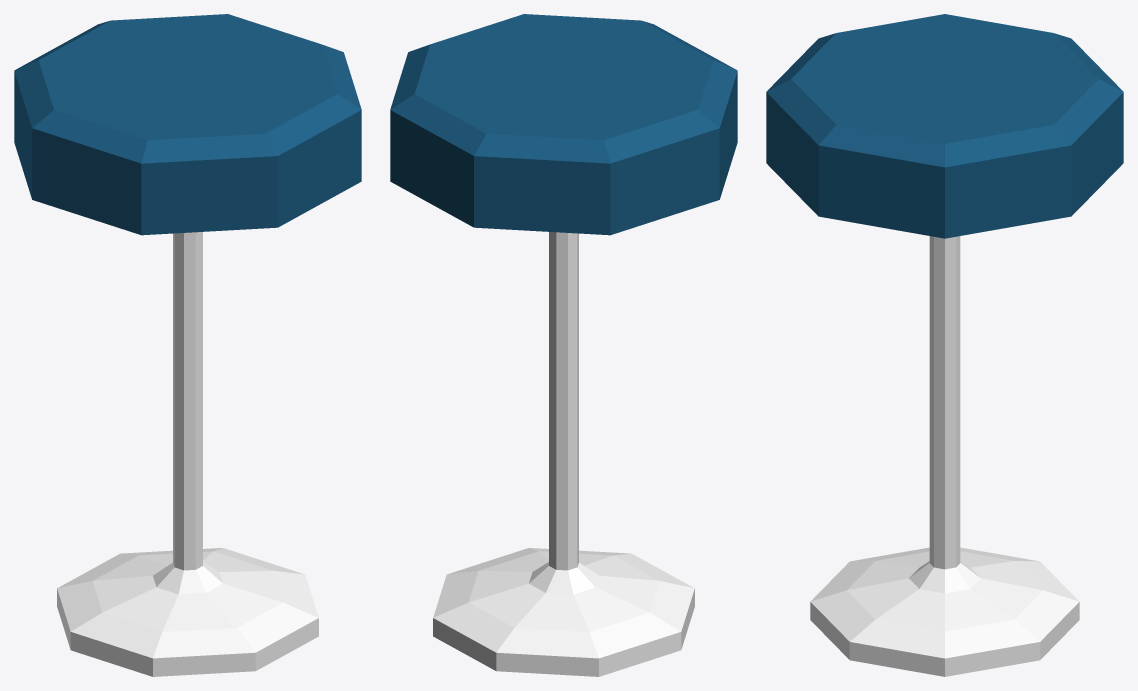
3 views of the same model, side by side, from view 1: azimuth 30°, elevation 25°; view 2: azimuth 150°, elevation 25°; view 3: azimuth 270°, elevation 25° (orthographic).
Visible parts, largest first — view 1: Cylinder.036; view 2: Cylinder.036; view 3: Cylinder.036.
Part boxes in pixels (<box>): Cylinder.036: <box>14,14,361,676</box>; Cylinder.036: <box>390,14,737,676</box>; Cylinder.036: <box>766,14,1123,676</box>.
Size of the model in its own units: 613 by 1023 by 613.
